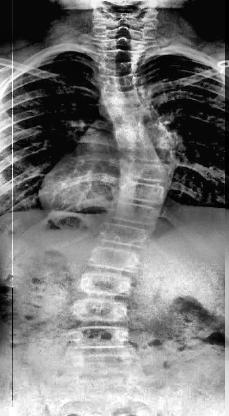Vertebrae: (86, 240, 144, 274), (69, 322, 131, 352), (72, 295, 132, 325), (110, 195, 160, 227), (114, 178, 174, 204), (99, 221, 151, 251), (106, 121, 158, 150), (81, 270, 133, 298), (116, 160, 174, 184), (97, 88, 150, 108), (104, 104, 154, 125), (114, 145, 164, 165), (94, 58, 142, 78), (96, 46, 144, 64), (96, 74, 144, 92)
